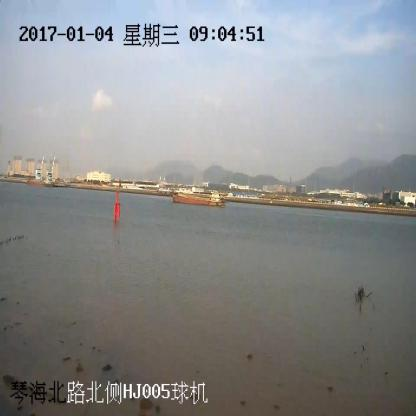Bulk Carrier: (172, 189, 224, 207)
